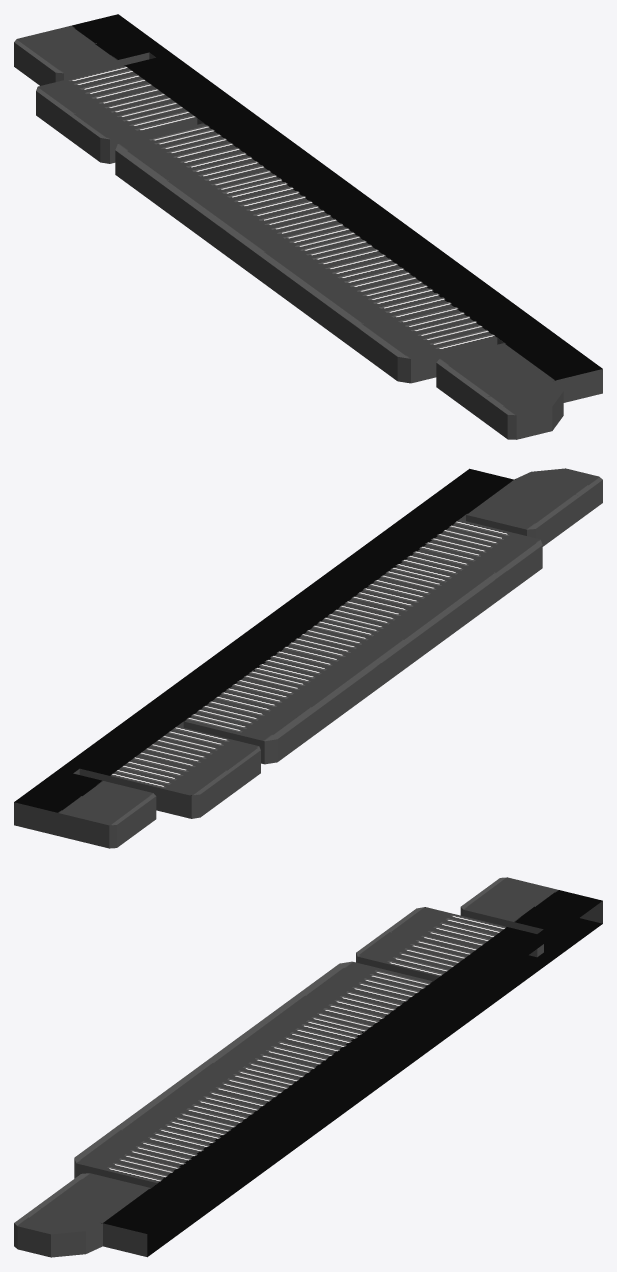
Rendered from CHIP.obj.
3 renders of one model, top to bottom at view 1: azimuth 30°, elevation 25°; view 2: azimuth 150°, elevation 25°; view 3: azimuth 330°, elevation 25°, orthographic. The views are drawn at different scales.
Visible parts, largest first — view 1: Box009; view 2: Box009; view 3: Box009.
Boxes of the visible parts, box(x1,y1,x2,y2) form: Box009: box(14, 14, 602, 439); Box009: box(14, 468, 602, 848); Box009: box(14, 877, 602, 1257).
Bounding box in the file's own units: 181 × 29.98 × 1129.
